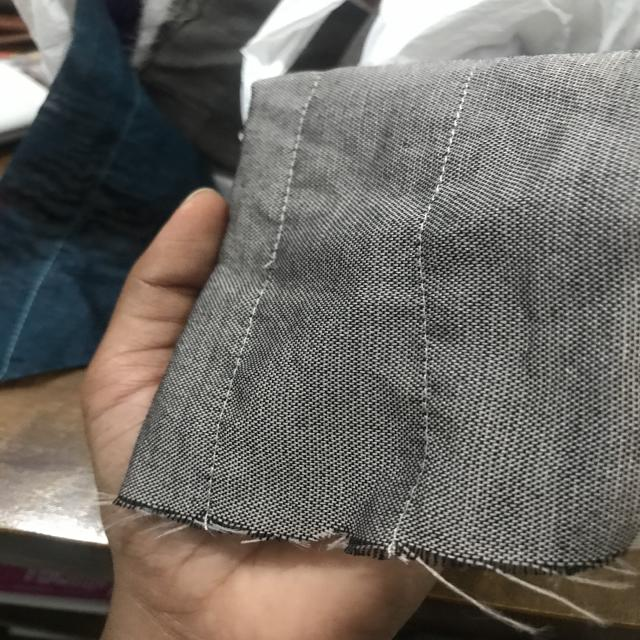broken: (256, 238, 287, 293)
good: (404, 278, 456, 392)
